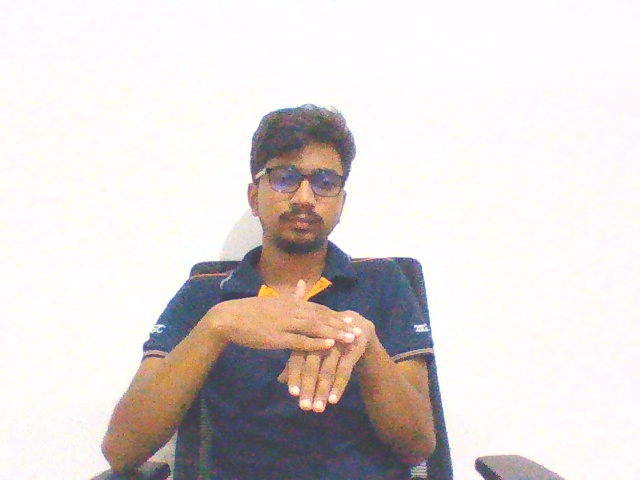pineapple: (200, 276, 378, 416)
